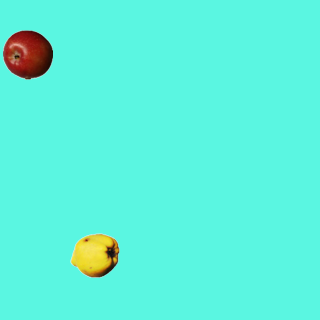Apple Braeburn: (2, 29, 52, 79)
Quince: (69, 230, 119, 280)
